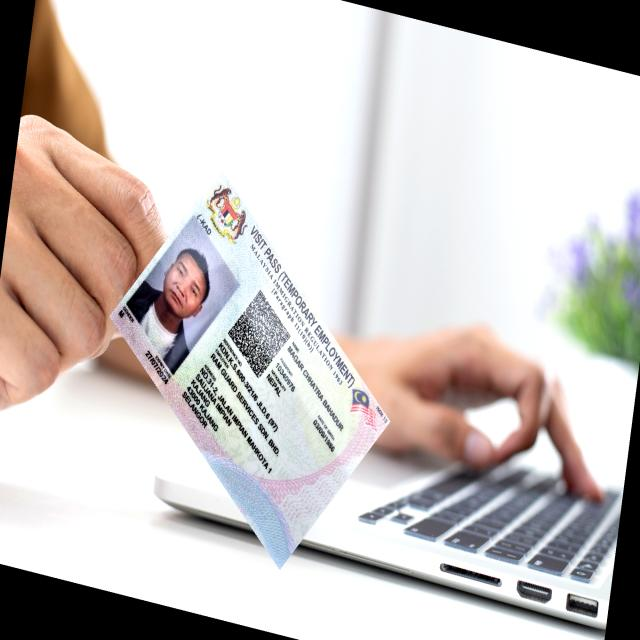ikad-temp: (108, 171, 391, 569)
